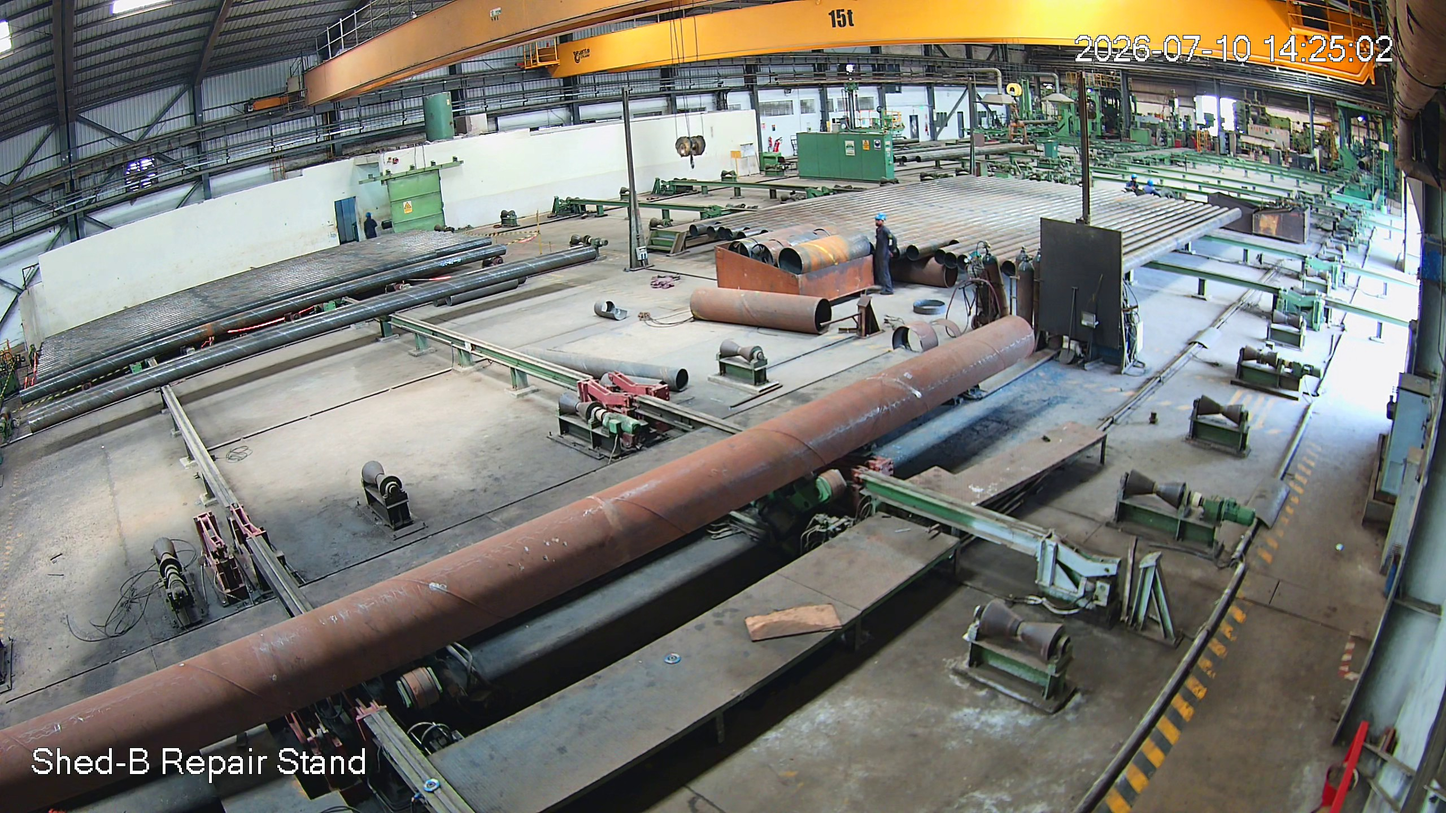Helmet: (873, 209, 891, 240)
Person: (870, 211, 903, 299)
